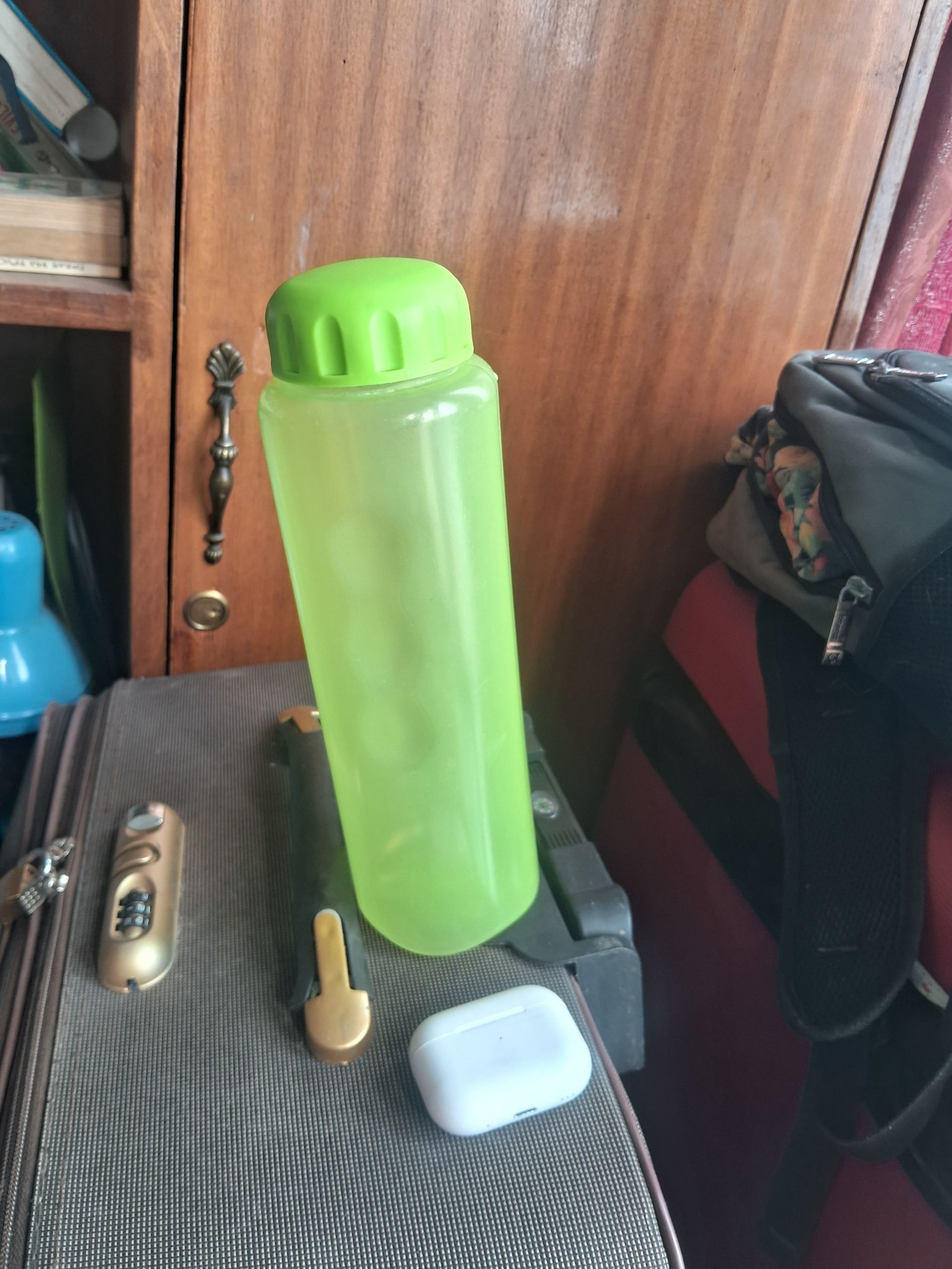Air_pod: (402, 978, 601, 1142)
Water_bottle: (251, 250, 551, 961)
